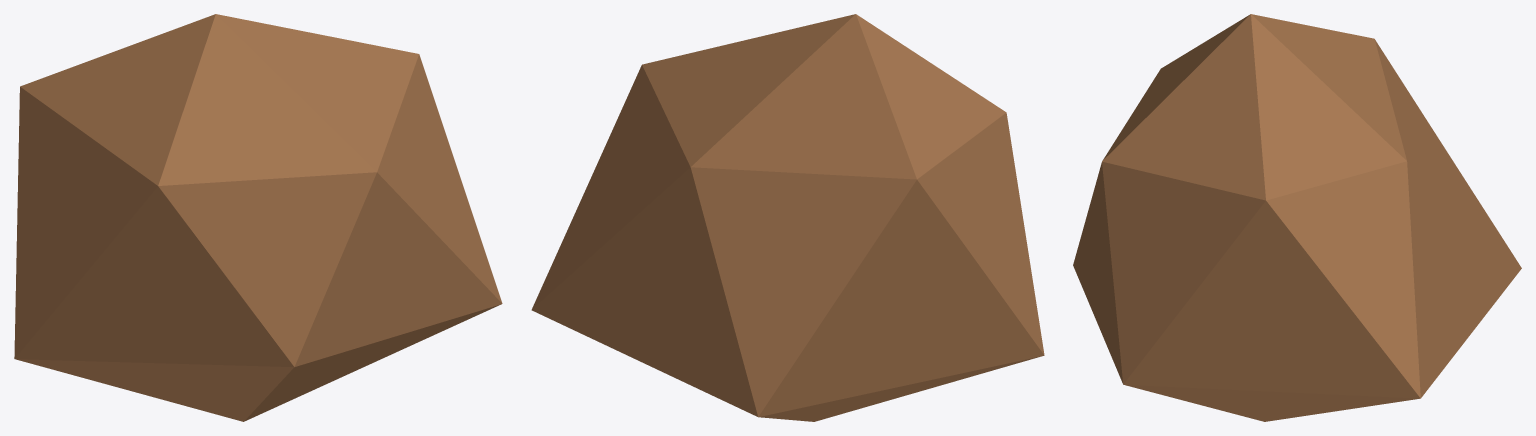
Rendered from HarvestStone.fbx.
3 renders of one model, left to right at view 1: azimuth 30°, elevation 25°; view 2: azimuth 150°, elevation 25°; view 3: azimuth 270°, elevation 25°, orthographic. The views are drawn at different scales.
Visible parts, largest first — view 1: HarvestStone; view 2: HarvestStone; view 3: HarvestStone.
Part boxes in pixels (<box>): HarvestStone: <box>14,14,502,421</box>; HarvestStone: <box>531,14,1044,421</box>; HarvestStone: <box>1073,14,1521,421</box>.
Bounding box in the file's own units: 58.63 × 53.83 × 55.87.
